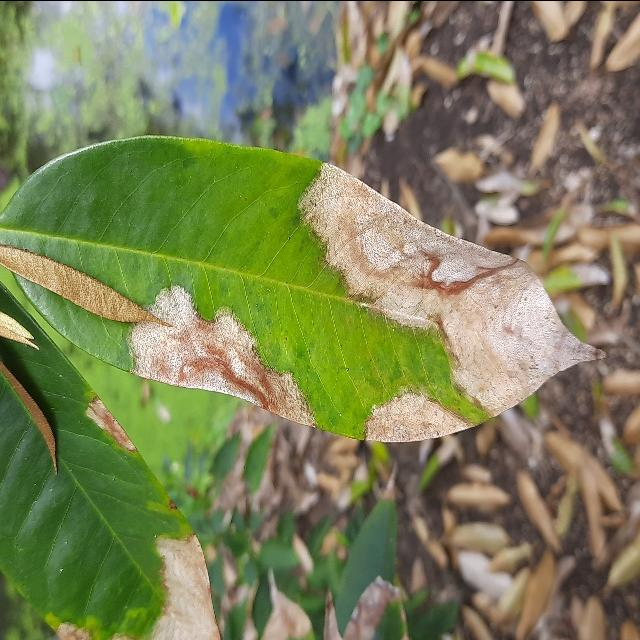Leaf Blight: (0, 127, 611, 449)
